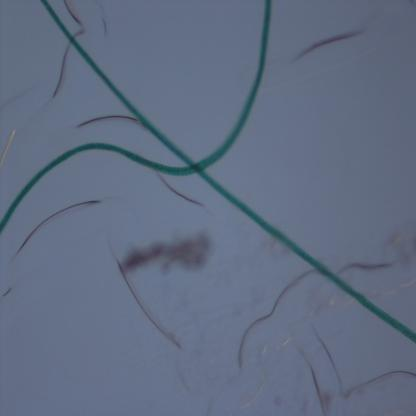Background material: (286, 323, 416, 416), (232, 267, 316, 363), (104, 249, 179, 352), (105, 221, 218, 283), (15, 191, 98, 254), (288, 26, 368, 64), (334, 240, 409, 277), (40, 45, 72, 112), (151, 174, 208, 211), (64, 1, 110, 43), (77, 112, 138, 131)
Microfibre: (41, 0, 416, 345), (0, 0, 272, 232)
